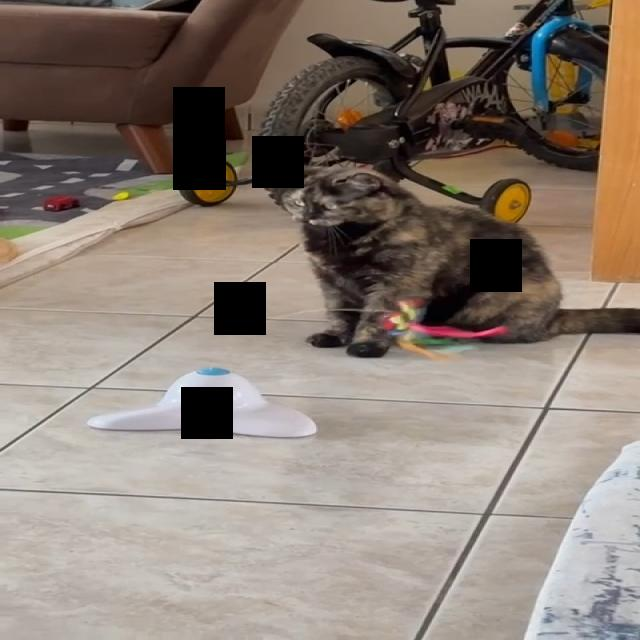authorized: (274, 160, 638, 358)
